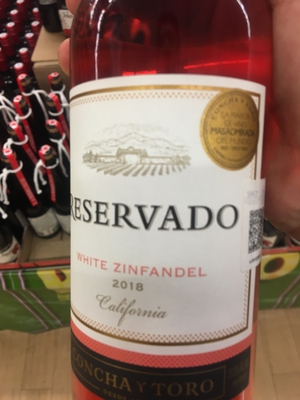reservado white zinfandel: (66, 13, 271, 396)
